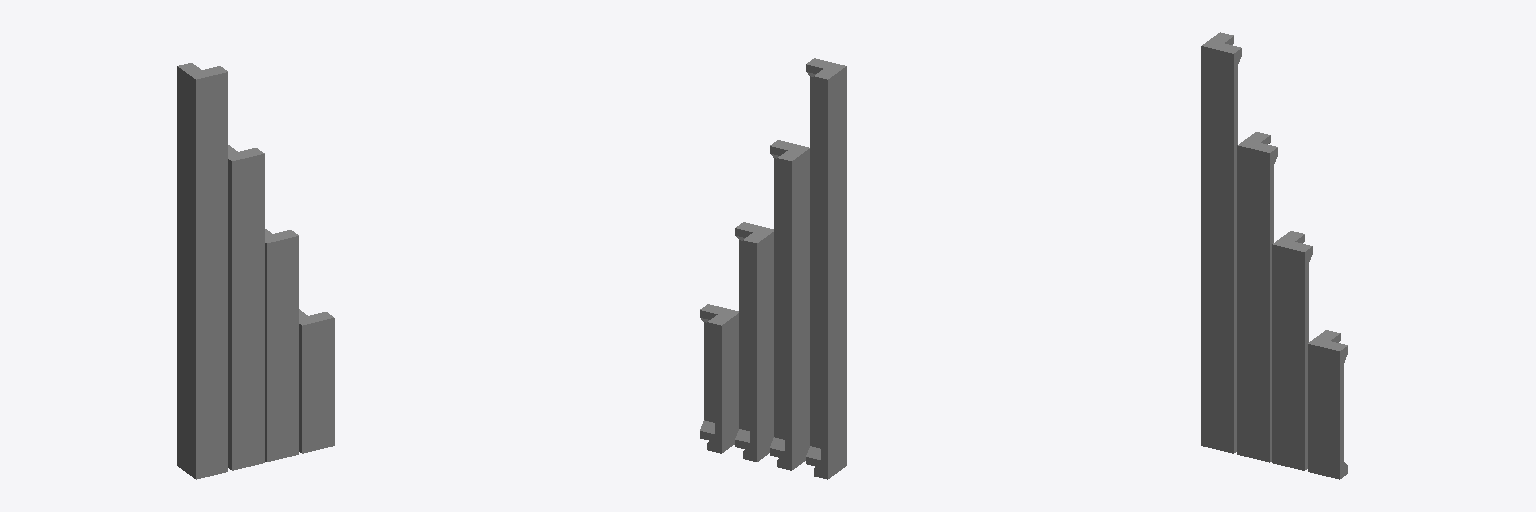
The model's file is OuterRadius.obj.
The picture shows the model from 3 angles: view 1: azimuth 30°, elevation 25°; view 2: azimuth 150°, elevation 25°; view 3: azimuth 330°, elevation 25°; orthographic projection.
Visible parts, largest first — view 1: SM_OuterRadius_1_E_Texture; view 2: SM_OuterRadius_1_E_Texture; view 3: SM_OuterRadius_1_E_Texture.
Boxes of the visible parts, box(x1,y1,x2,y2) form: SM_OuterRadius_1_E_Texture: box(177, 63, 334, 479); SM_OuterRadius_1_E_Texture: box(700, 58, 846, 479); SM_OuterRadius_1_E_Texture: box(1201, 32, 1347, 479).
Size of the model in its own units: 151 by 417 by 35.43.